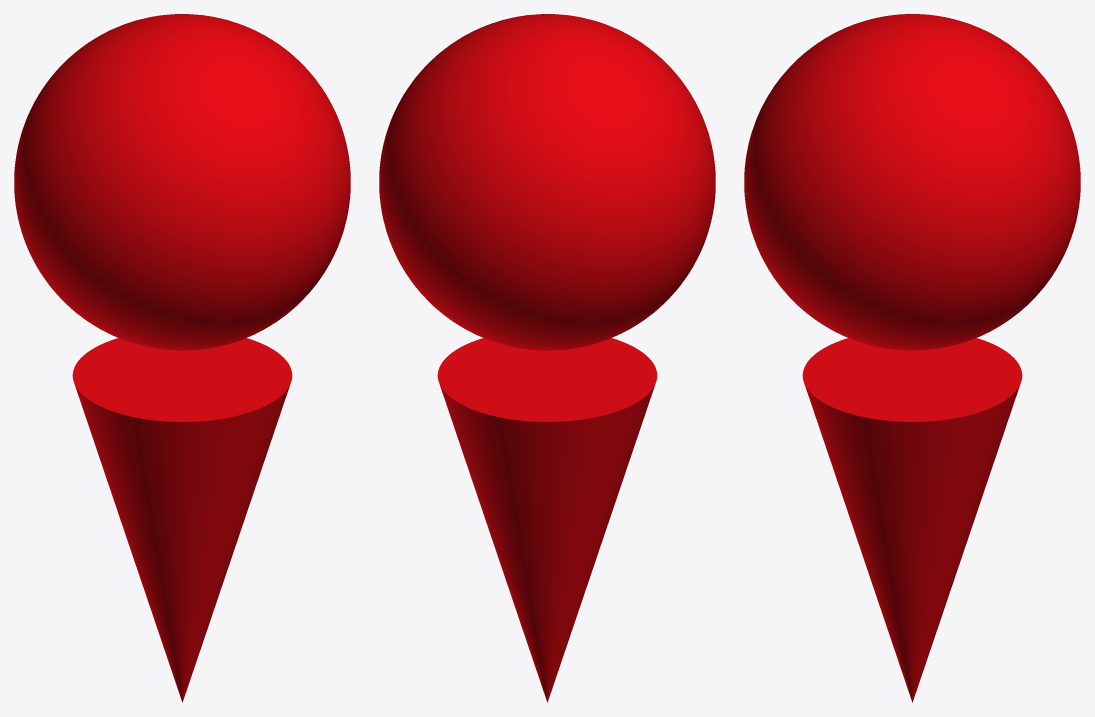
Rendered from Player 1.fbx.
The picture shows the model from 3 angles, left to right: view 1: azimuth 30°, elevation 25°; view 2: azimuth 150°, elevation 25°; view 3: azimuth 270°, elevation 25°; orthographic projection.
Parts seen in each view (by area): view 1: player 2024-11-13 15_12_53; view 2: player 2024-11-13 15_12_53; view 3: player 2024-11-13 15_12_53.
Part boxes in pixels (left/top/right/bottom): player 2024-11-13 15_12_53: left=14, top=14, right=350, bottom=702; player 2024-11-13 15_12_53: left=379, top=14, right=715, bottom=702; player 2024-11-13 15_12_53: left=744, top=14, right=1080, bottom=702.
Bounding box in the file's own units: 91.27 × 201 × 91.22.
